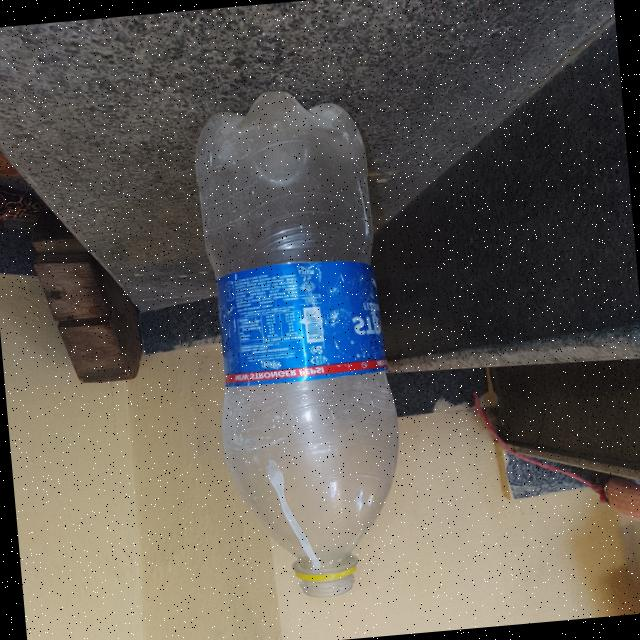bottle: (170, 64, 446, 624)
label: (212, 242, 394, 396)
